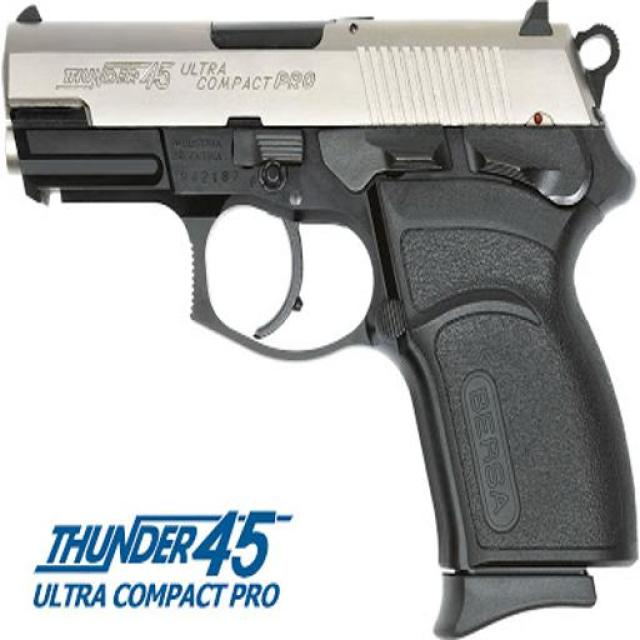pistol: (4, 4, 635, 633)
